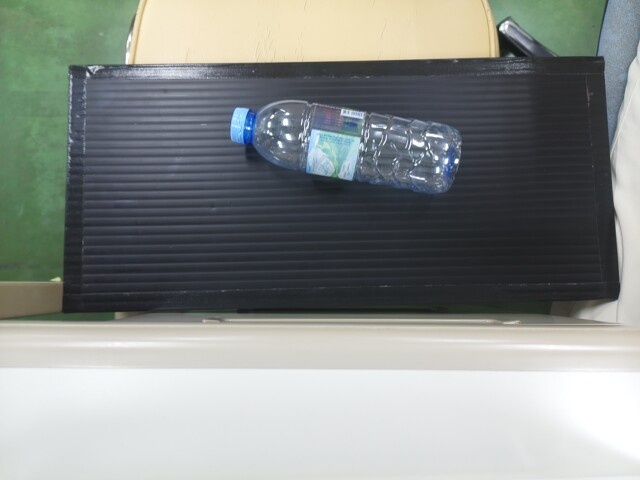plastic_bottle: (224, 93, 463, 193)
